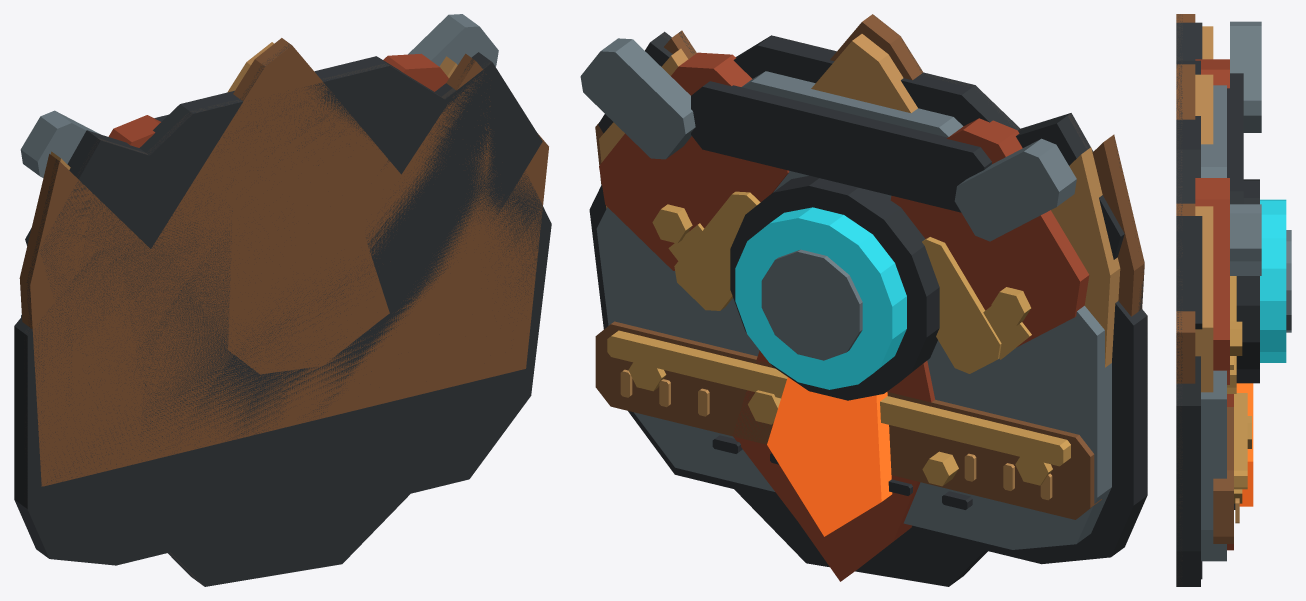
The model's file is e8d-night-elite-reliefs.glb.
3 views of the same model, side by side, from view 1: azimuth 30°, elevation 25°; view 2: azimuth 150°, elevation 25°; view 3: azimuth 270°, elevation 25° (orthographic). The views are drawn at different scales.
Parts seen in each view (by area): view 1: sir-nibbles-earned, hot-mess-earned, riveting-rita-earned, riveting-rita-locked; view 2: riveting-rita-earned, hot-mess-earned, sir-nibbles-earned; view 3: riveting-rita-earned, hot-mess-earned, sir-nibbles-earned, riveting-rita-locked, sir-nibbles-locked, hot-mess-locked.
Boxes of the visible parts, <box> form: sir-nibbles-earned: <box>19,38,548,486</box>; hot-mess-earned: <box>20,14,542,586</box>; riveting-rita-earned: <box>14,56,551,565</box>; riveting-rita-locked: <box>24,63,443,510</box>; riveting-rita-earned: <box>589,35,1147,564</box>; hot-mess-earned: <box>580,32,1124,586</box>; sir-nibbles-earned: <box>595,14,1144,519</box>; riveting-rita-earned: <box>1176,60,1291,586</box>; hot-mess-earned: <box>1176,21,1261,579</box>; sir-nibbles-earned: <box>1176,14,1247,543</box>; riveting-rita-locked: <box>1176,61,1182,586</box>; sir-nibbles-locked: <box>1176,14,1182,383</box>; hot-mess-locked: <box>1176,22,1182,311</box>.
Bounding box in the file's own units: 0.408 × 0.395 × 0.084.
